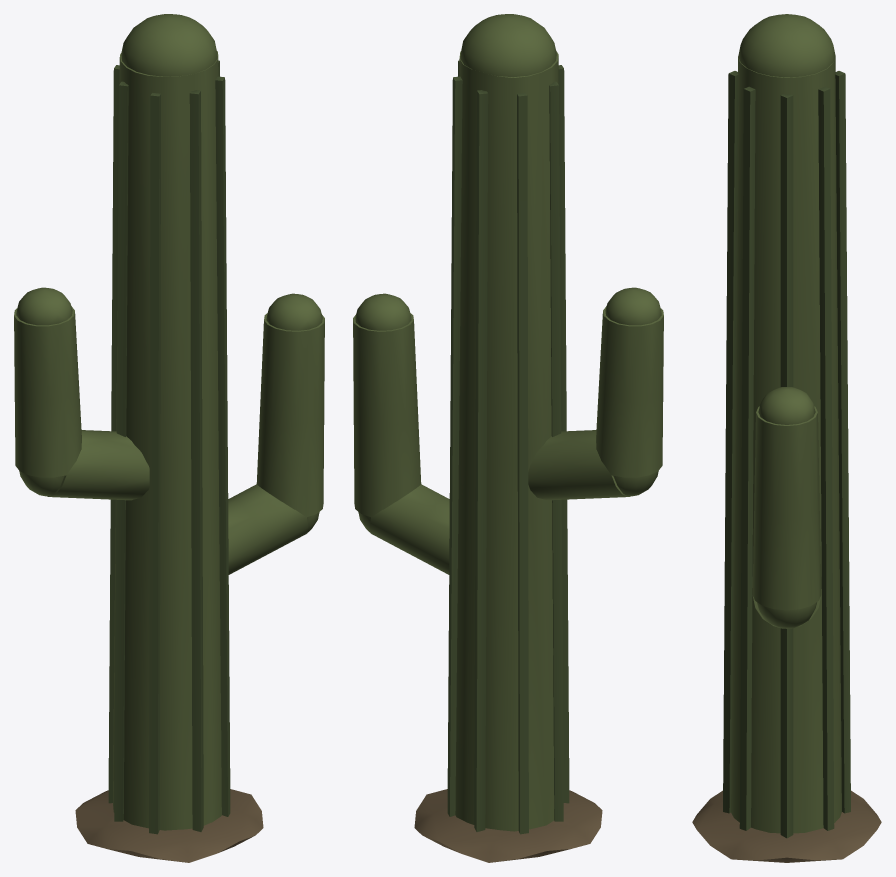
Rendered from saguaro_a.glb.
3 views of the same model, side by side, from view 1: azimuth 30°, elevation 25°; view 2: azimuth 150°, elevation 25°; view 3: azimuth 270°, elevation 25° (orthographic).
Visible parts, largest first — view 1: Surface; view 2: Surface; view 3: Surface.
Boxes of the visible parts, bbox=[...] form: Surface: bbox=[14, 14, 324, 862]; Surface: bbox=[353, 14, 663, 862]; Surface: bbox=[692, 14, 881, 862].
Bounding box in the file's own units: 1.89 × 4.88 × 1.02.
